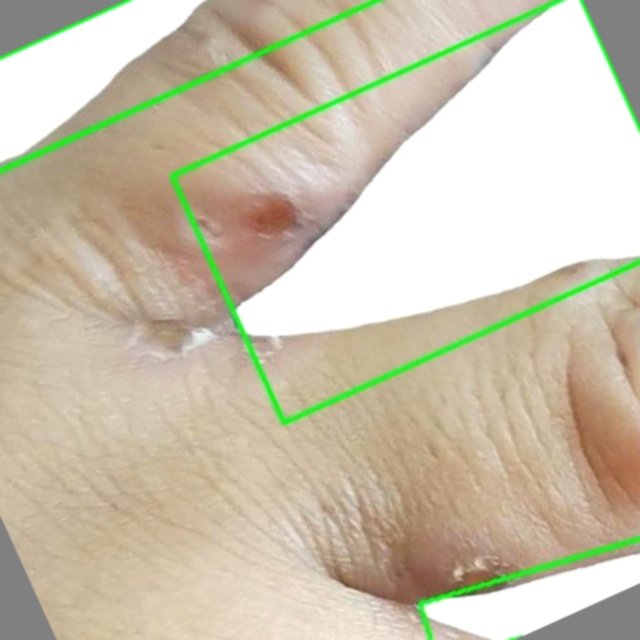Scabies: (172, 0, 639, 424), (420, 539, 639, 639)
